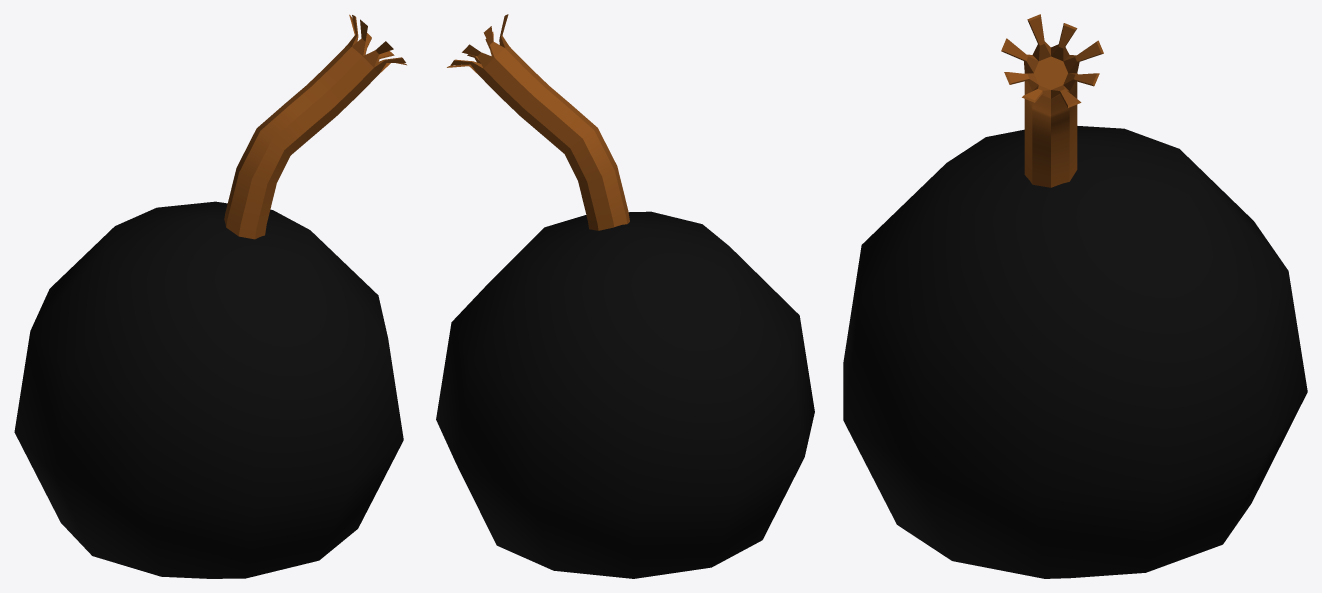
The model's file is foctan.FBX.
3 renders of one model, left to right at view 1: azimuth 30°, elevation 25°; view 2: azimuth 150°, elevation 25°; view 3: azimuth 270°, elevation 25°, orthographic. The views are drawn at different scales.
Parts seen in each view (by area): view 1: Sphere001; view 2: Sphere001; view 3: Sphere001.
Part boxes in pixels (bbox=[...]): Sphere001: bbox=[14, 14, 406, 578]; Sphere001: bbox=[436, 14, 814, 578]; Sphere001: bbox=[843, 14, 1307, 578].
Bounding box in the file's own units: 47.94 × 69.71 × 45.53.
